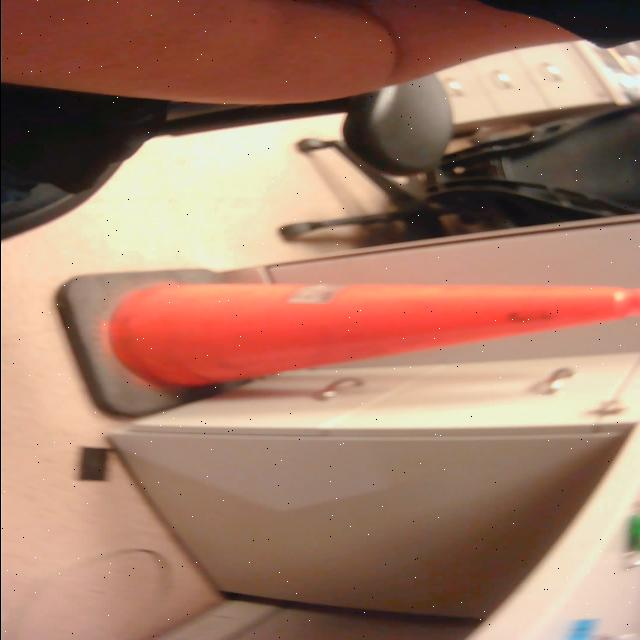traffic cone: (47, 263, 640, 427)
